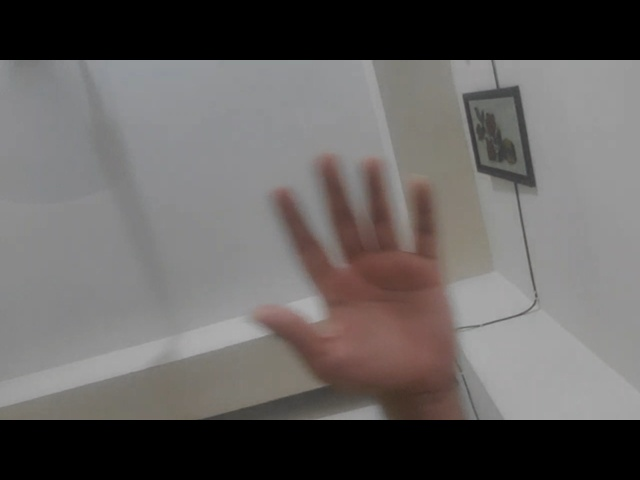Hello: (241, 145, 476, 402)
